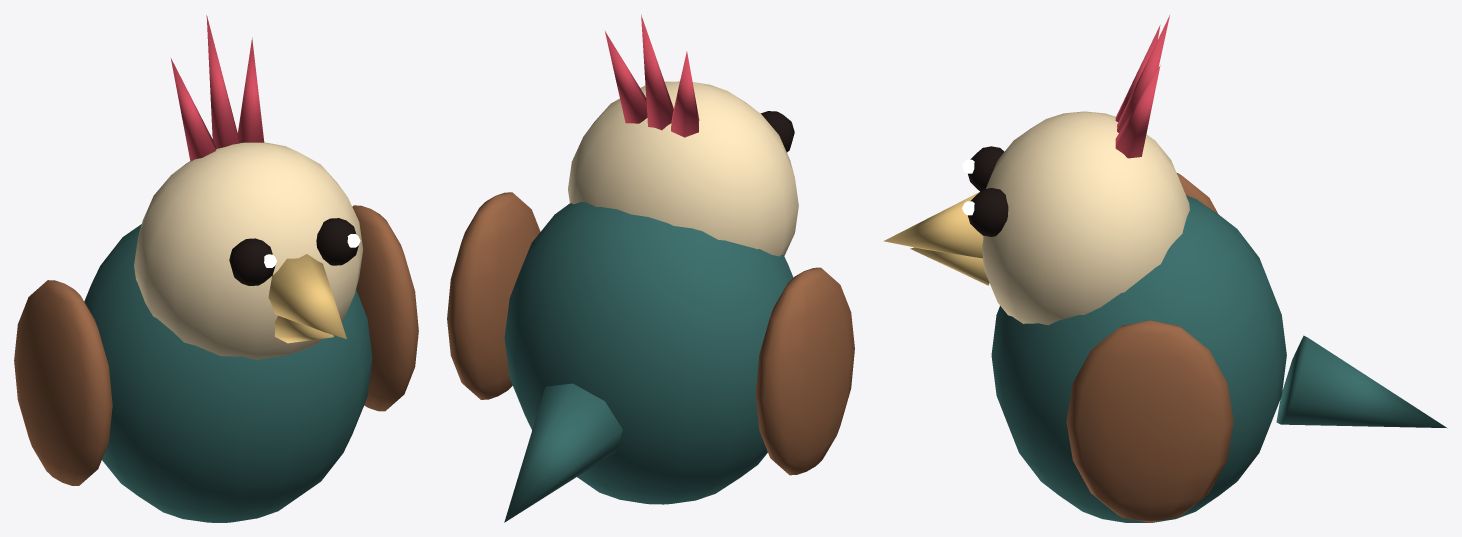
The model's file is cuckoo-bird.glb.
3 views of the same model, side by side, from view 1: azimuth 30°, elevation 25°; view 2: azimuth 150°, elevation 25°; view 3: azimuth 270°, elevation 25° (orthographic). The views are drawn at different scales.
Parts seen in each view (by area): view 1: body, face, wing-feather--1, wing-feather-1, beak-top, crest-1, crest-0, eye--1, crest-2, eye-1, beak-low; view 2: body, face, wing-feather--1, wing-feather-1, tail, crest-1, crest-2, crest-0, eye--1; view 3: body, face, wing-feather-1, tail, beak-top, crest-2, eye-1, crest-1, beak-low, eye--1.
Part boxes in pixels (x1,y1,x2,y2): body: (84, 224, 372, 522); face: (134, 142, 363, 359); wing-feather--1: (14, 280, 112, 485); wing-feather-1: (352, 205, 418, 411); beak-top: (268, 254, 346, 339); crest-1: (206, 15, 239, 148); crest-0: (171, 58, 216, 161); eye--1: (229, 238, 275, 285); crest-2: (237, 37, 264, 142); eye-1: (316, 218, 358, 265); beak-low: (274, 315, 333, 343); body: (504, 202, 793, 504); face: (568, 81, 798, 256); wing-feather--1: (755, 267, 854, 475); wing-feather-1: (447, 192, 540, 399); tail: (504, 383, 622, 522); crest-1: (641, 14, 673, 130); crest-2: (605, 31, 647, 123); crest-0: (671, 51, 699, 137); eye--1: (760, 111, 794, 152); body: (991, 195, 1286, 522); face: (982, 111, 1189, 325); wing-feather-1: (1066, 320, 1233, 522); tail: (1276, 335, 1447, 428); beak-top: (883, 192, 983, 258); crest-2: (1115, 65, 1160, 158); eye-1: (968, 188, 1008, 236); crest-1: (1117, 15, 1169, 132); beak-low: (910, 247, 989, 285); eye--1: (968, 146, 1004, 191).
Size of the model in its own units: 0.779 by 1 by 1.03.
